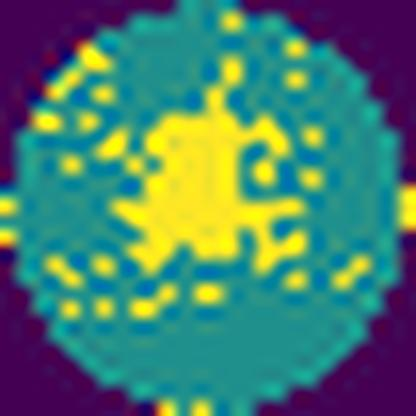Center: (112, 87, 310, 281)
